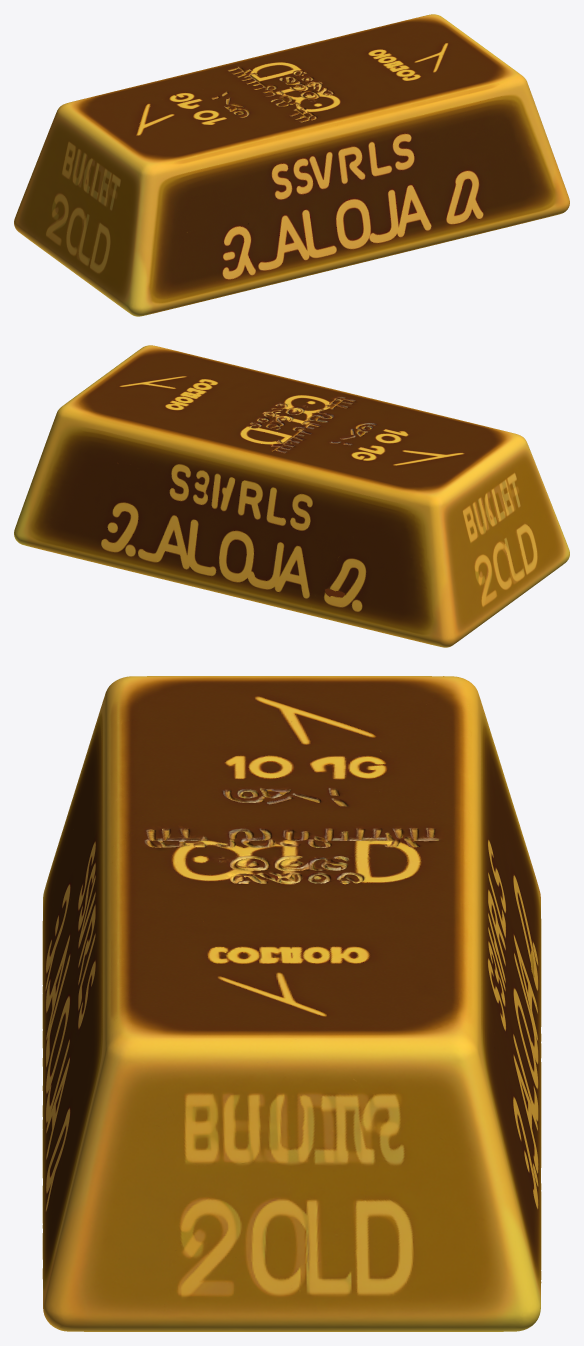
The model's file is gold-bar-textured-with-text.glb.
The picture shows the model from 3 angles, top to bottom: view 1: azimuth 30°, elevation 25°; view 2: azimuth 150°, elevation 25°; view 3: azimuth 270°, elevation 25°; orthographic projection. The views are drawn at different scales.
Bounding box in the file's own units: 2 × 0.585 × 0.9797.
1 material, 1 textured.
